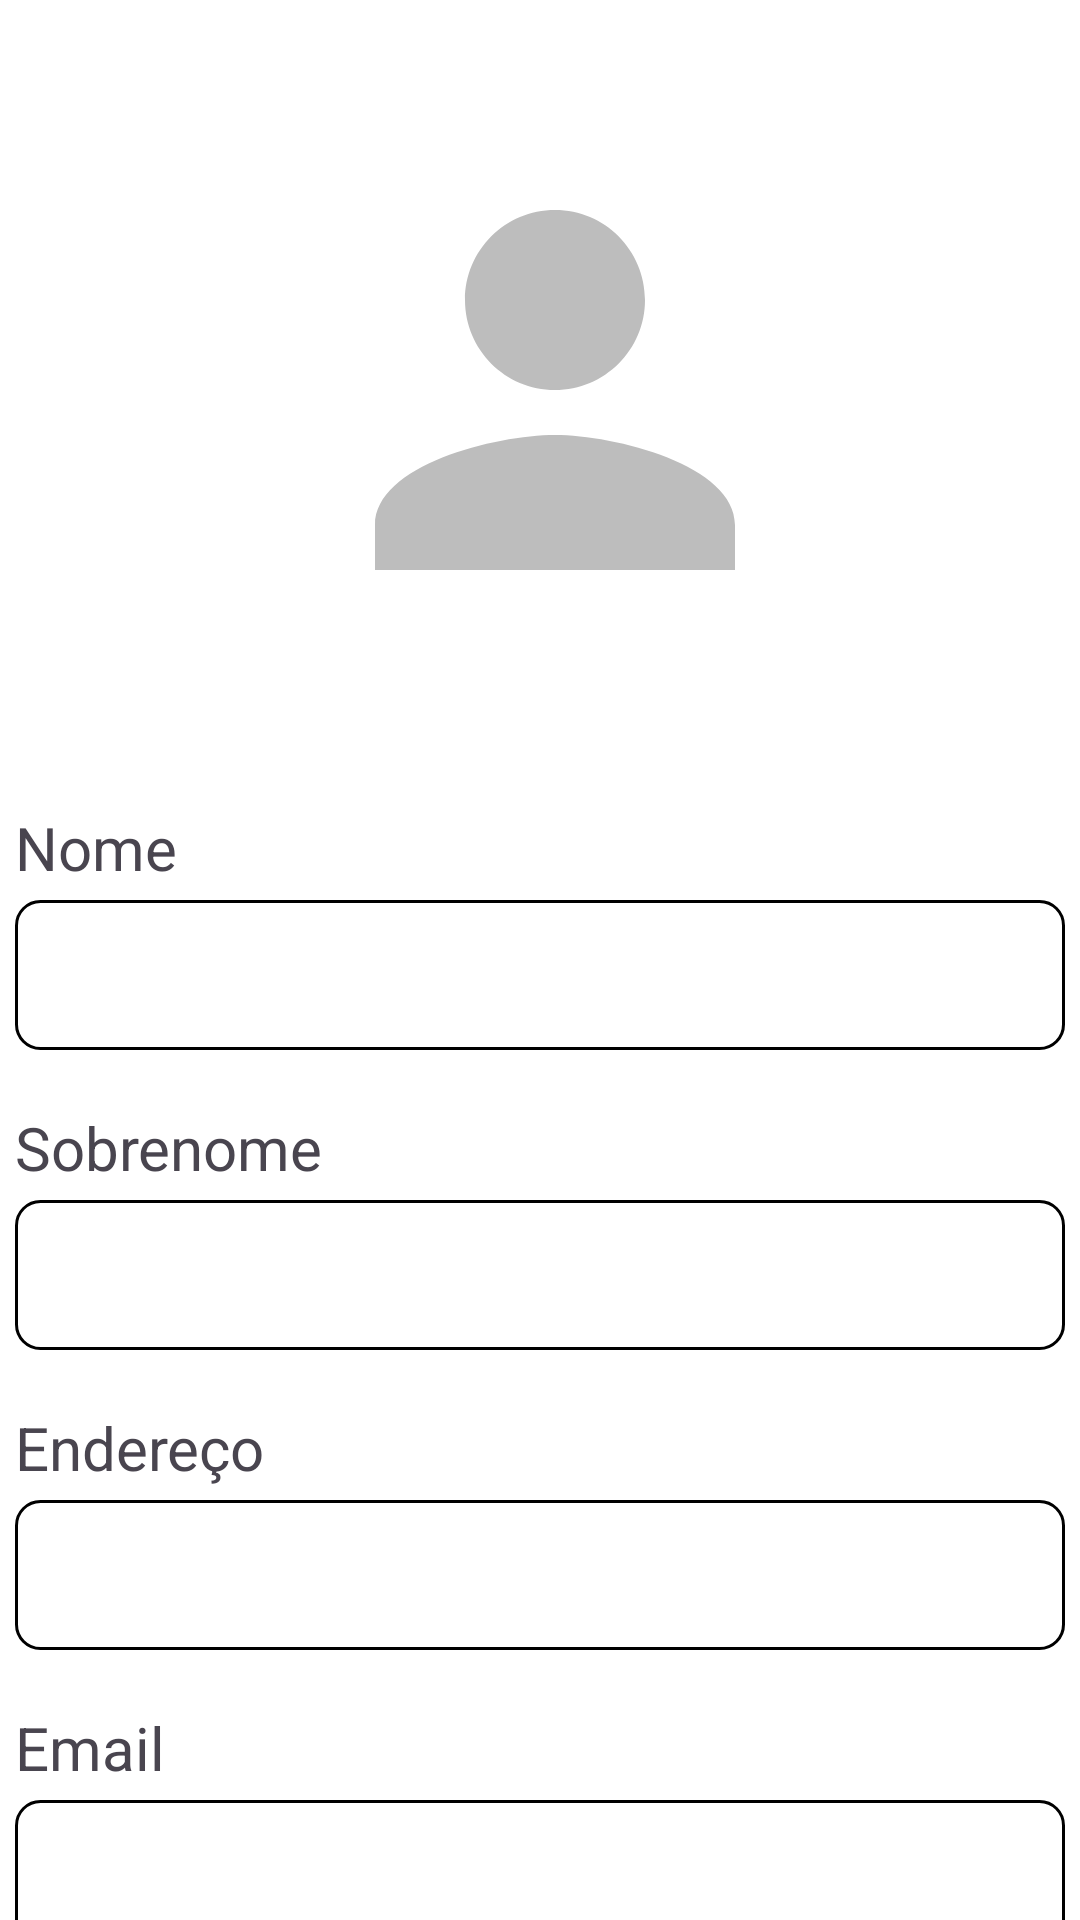

Named icons in this screenshot (1080 × 1920) and their centers, point (x, y):
person: point (555, 390)
